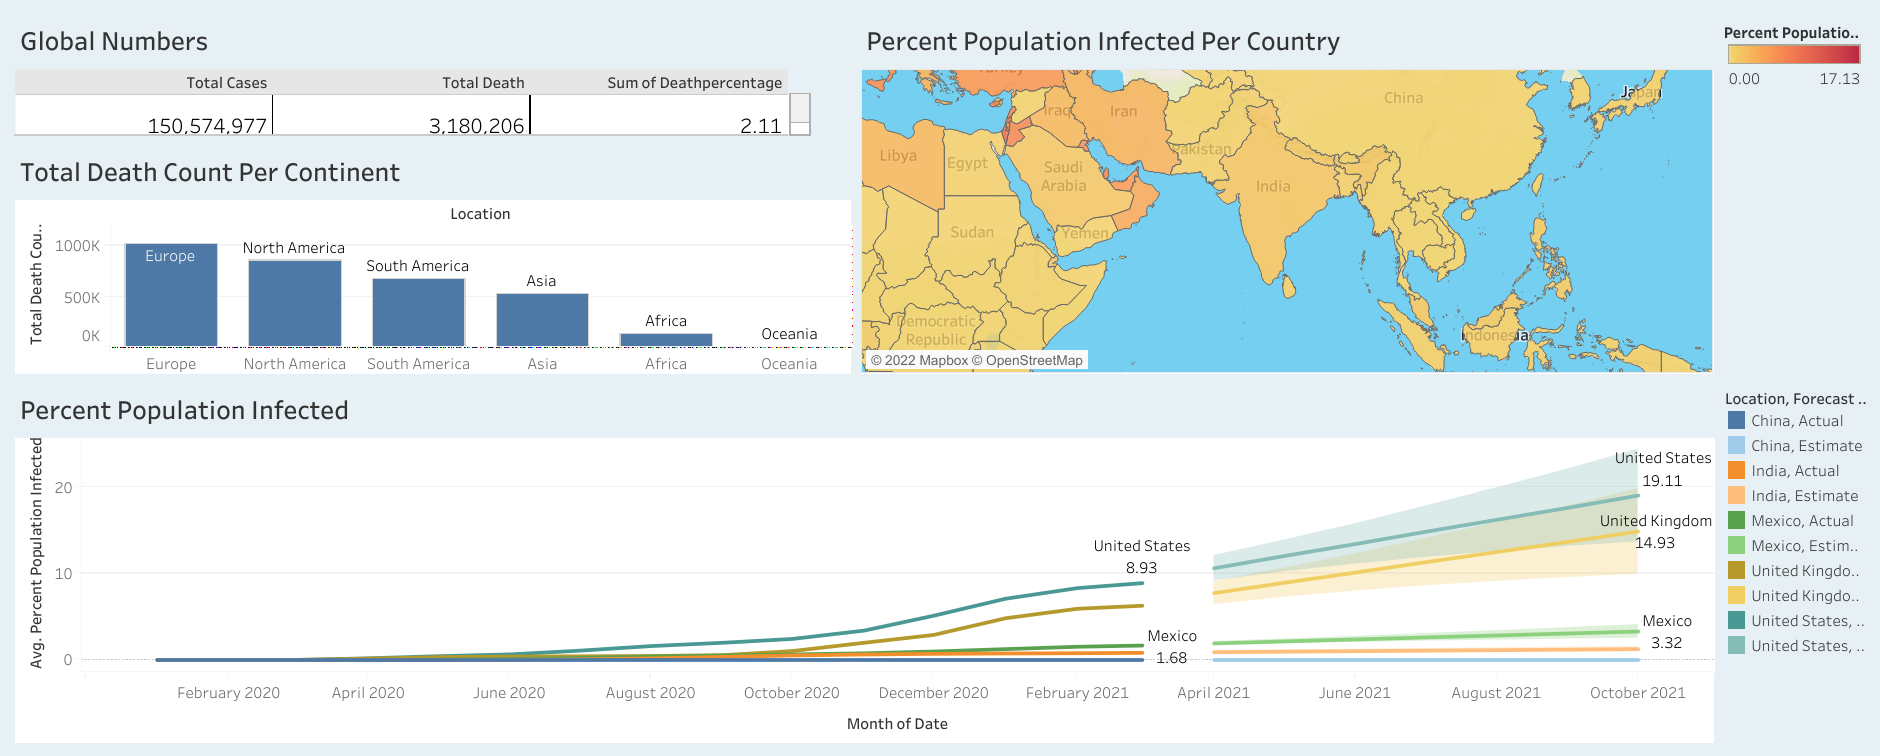

The dashboard page shown, as its layout file describes it:
{"tool":"tableau","page":{"name":"Dashboard 1","canvas":[1000,1000],"units":"permille","ordinal":0},"visuals":[{"type":"worksheet","title":"Sheet 1","mark":"Automatic","box":[4.9,9.4,450.3,173.9]},{"type":"worksheet","title":"Sheet 3","mark":"Automatic","box":[455.2,9.4,458.7,490.6]},{"type":"legend","title":"Sheet 3","param":"[federated.1irvpob0sk3w7m162g3rn09aqevq].[sum:percent_population_infected:qk]","box":[913.9,9.4,81.2,149.2]},{"type":"worksheet","title":"Sheet 2","mark":"Automatic","rows":["total_death_count"],"cols":["location"],"box":[4.9,183.3,450.3,316.7]},{"type":"worksheet","title":"Sheet 4","mark":"Automatic","rows":["percent_population_infected"],"cols":["date"],"box":[4.9,500,909,490.6]},{"type":"legend","title":"Sheet 4","param":"[federated.082um7s1wrovn5106jan00x7q42b].[none:location:nk]\n[federated.082um7s1w","box":[913.9,500.6,81.2,490]}]}

Visuals, with their boxes on the dashboard's canvas, which has no fixed pixel size, in thousandths of its width and height (x1, y1, x2, y2). These are canvas units, not pixel positions in the 1880x756 screenshot, which may show the page scaled, cropped or inside an application window:
"Sheet 1" worksheet: left=5, top=9, right=455, bottom=183
"Sheet 3" worksheet: left=455, top=9, right=914, bottom=500
"Sheet 3" legend: left=914, top=9, right=995, bottom=159
"Sheet 2" worksheet: left=5, top=183, right=455, bottom=500
"Sheet 4" worksheet: left=5, top=500, right=914, bottom=991
"Sheet 4" legend: left=914, top=501, right=995, bottom=991
